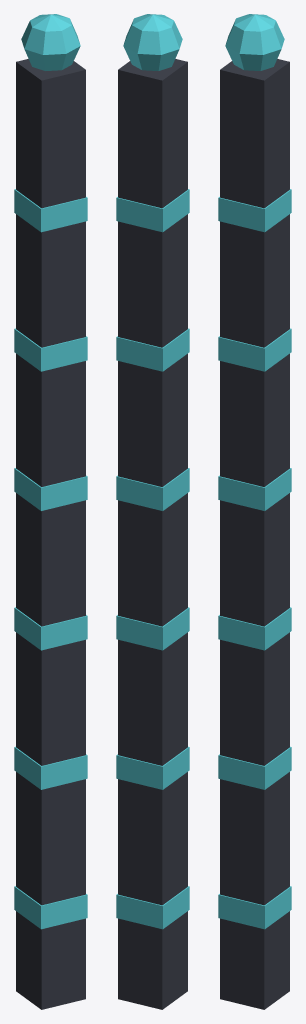
The model's file is mdl_puerta_velocidad_poste.fbx.
The picture shows the model from 3 angles, left to right: view 1: azimuth 30°, elevation 25°; view 2: azimuth 150°, elevation 25°; view 3: azimuth 330°, elevation 25°; orthographic projection.
Parts seen in each view (by area): view 1: mdl_puerta_velocidad_poste; view 2: mdl_puerta_velocidad_poste; view 3: mdl_puerta_velocidad_poste.
Boxes of the visible parts, left/top/right/bottom form: mdl_puerta_velocidad_poste: left=14, top=14, right=87, bottom=1009; mdl_puerta_velocidad_poste: left=116, top=14, right=189, bottom=1009; mdl_puerta_velocidad_poste: left=218, top=14, right=291, bottom=1009.
Size of the model in its own units: 240 by 4220 by 240.
